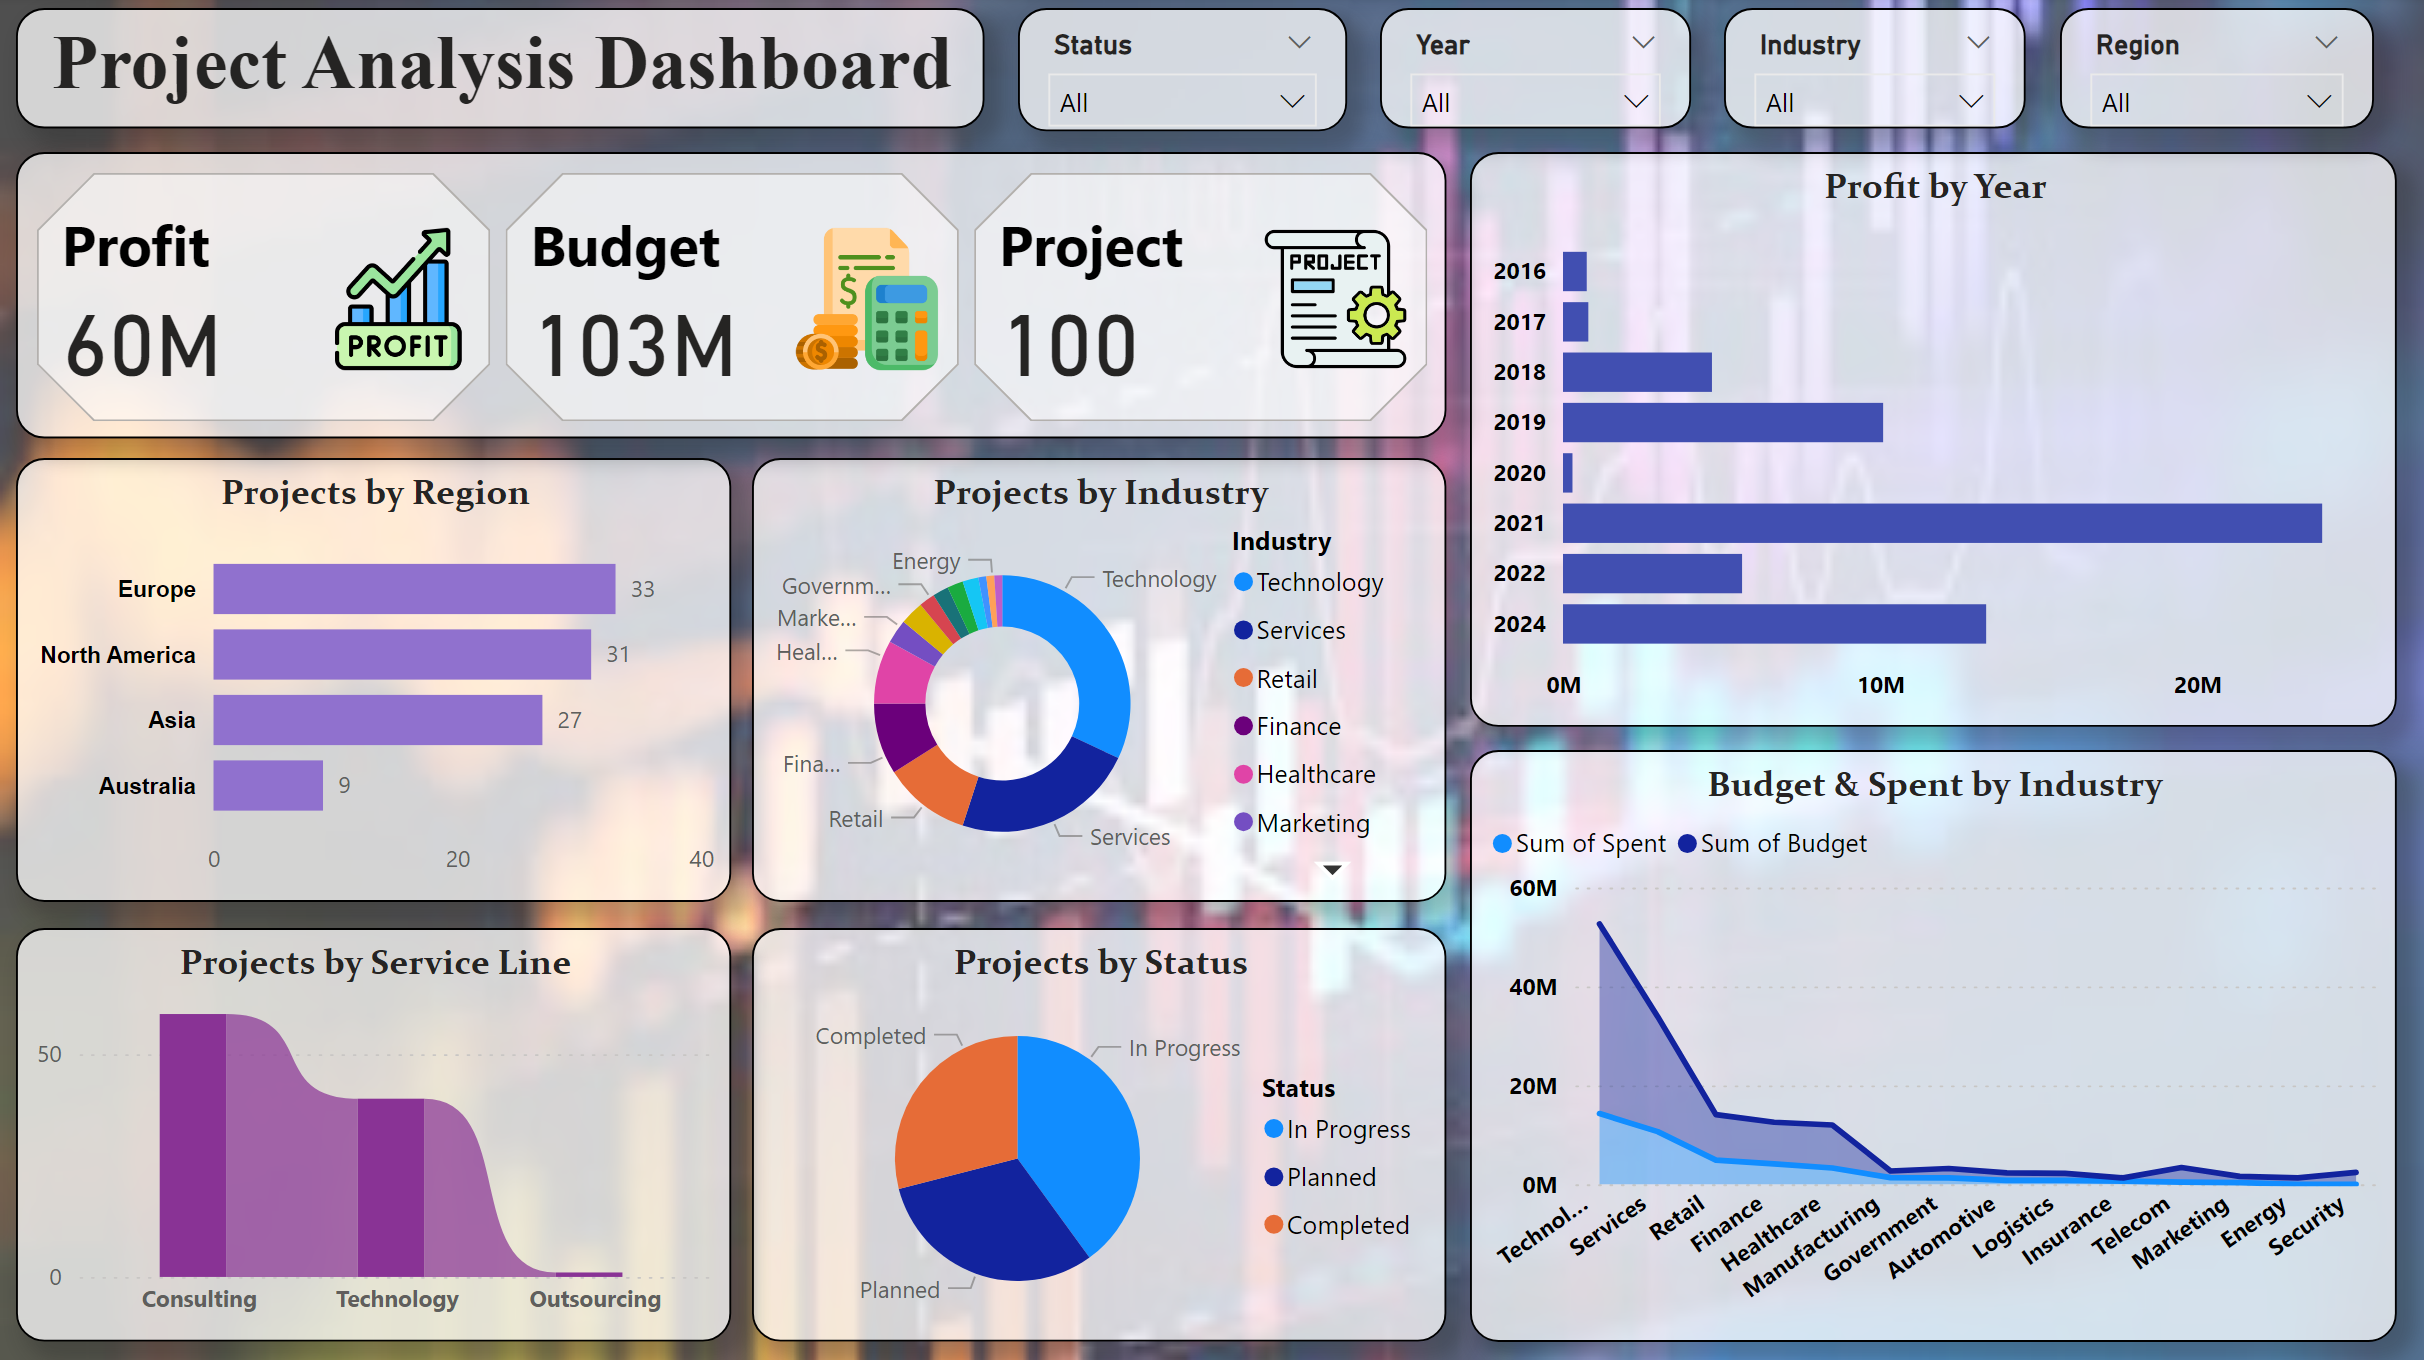

The page's visual inventory and layout, read from the dashboard file:
{"tool":"powerbi","page":{"name":"Page 1","canvas":[1280,720],"ordinal":0},"visuals":[{"type":"textbox","title":"Project Analysis Dashboard","box":[9.5,6.4,510.6,63.6],"z":0},{"type":"barChart","fields":{"Category":["Project Dataset.Region"],"Y":["CountNonNull(Project Dataset.Project ID)"]},"box":[9.5,243.4,377,233.8],"z":4000},{"type":"donutChart","fields":{"Category":["Project Dataset.Industry"],"Y":["CountNonNull(Project Dataset.Project ID)"]},"box":[397.7,243.4,365.8,233.8],"z":5000},{"type":"barChart","title":"Profit by Year","fields":{"Y":["Sum(Project Dataset.Profit)"],"Category":["Project Dataset.End Date.Variation.Date Hierarchy.Year"]},"box":[775.8,82.3,488.7,303.2],"z":6000},{"type":"pieChart","fields":{"Category":["Project Dataset.Status"],"Y":["CountNonNull(Project Dataset.Project ID)"]},"box":[397.7,491.5,365.8,217.9],"z":7000},{"type":"stackedAreaChart","title":"Budget & Spent by Industry","fields":{"Category":["Project Dataset.Industry"],"Y":["Sum(Project Dataset.Spent)","Sum(Project Dataset.Budget)"]},"box":[776.2,397.7,488.3,311.8],"z":8000},{"type":"ribbonChart","fields":{"Category":["Project Dataset.Service Line"],"Y":["CountNonNull(Project Dataset.Project ID)"]},"box":[9.5,491.5,377,217.9],"z":9000},{"type":"slicer","fields":{"Values":["Project Dataset.Status"]},"box":[537.6,6.4,173.4,65.2],"z":10000},{"type":"slicer","fields":{"Values":["Project Dataset.End Date.Variation.Date Hierarchy.Year"]},"box":[728.5,6.4,163.8,63.6],"z":11000},{"type":"slicer","fields":{"Values":["Project Dataset.Industry"]},"box":[909.8,6.4,159.1,63.6],"z":12000},{"type":"slicer","fields":{"Values":["Project Dataset.Region"]},"box":[1086.4,6.4,165.4,63.6],"z":13000},{"type":"cardVisual","fields":{"Data":["Sum(Project Dataset.Profit)","Sum(Project Dataset.Budget)","CountNonNull(Project Dataset.Project ID)"]},"box":[9.5,82.7,753.9,151.1],"z":14000}]}

Visuals, with their boxes in screenshot pixels (x1, y1, x2, y2), scaled from the page's 1280x720 canvas onto the 2424x1360 screenshot:
"Project Analysis Dashboard" textbox: l=18, t=12, r=985, b=132
barChart - Project Dataset.Region x CountNonNull(Project Dataset.Project ID): l=18, t=460, r=732, b=901
donutChart - Project Dataset.Industry x CountNonNull(Project Dataset.Project ID): l=753, t=460, r=1446, b=901
"Profit by Year" barChart: l=1469, t=155, r=2395, b=728
pieChart - Project Dataset.Status x CountNonNull(Project Dataset.Project ID): l=753, t=928, r=1446, b=1340
"Budget & Spent by Industry" stackedAreaChart: l=1470, t=751, r=2395, b=1340
ribbonChart - Project Dataset.Service Line x CountNonNull(Project Dataset.Project ID): l=18, t=928, r=732, b=1340
slicer - Project Dataset.Status: l=1018, t=12, r=1346, b=135
slicer - Project Dataset.End Date.Variation.Date Hierarchy.Year: l=1380, t=12, r=1690, b=132
slicer - Project Dataset.Industry: l=1723, t=12, r=2024, b=132
slicer - Project Dataset.Region: l=2057, t=12, r=2371, b=132
cardVisual - Sum(Project Dataset.Profit) x Sum(Project Dataset.Budget): l=18, t=156, r=1446, b=442
